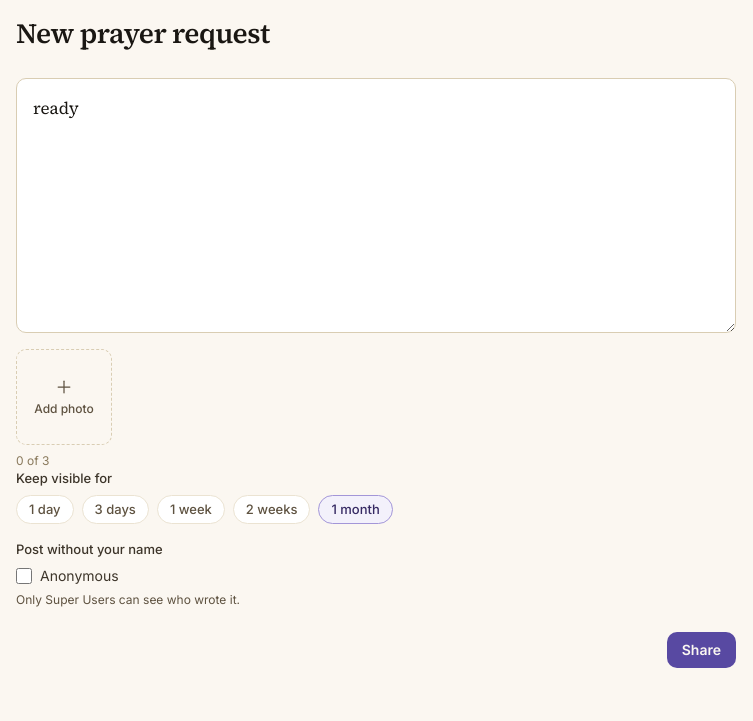
ComposePage › surfaces publish errors inline and stays on the page
The width and height of the screenshot is (753, 721).
Expected: the text box named "body" holds "ready", [16, 78, 736, 333]
Click the button "Share".
click(701, 650)  # box [667, 632, 736, 668]
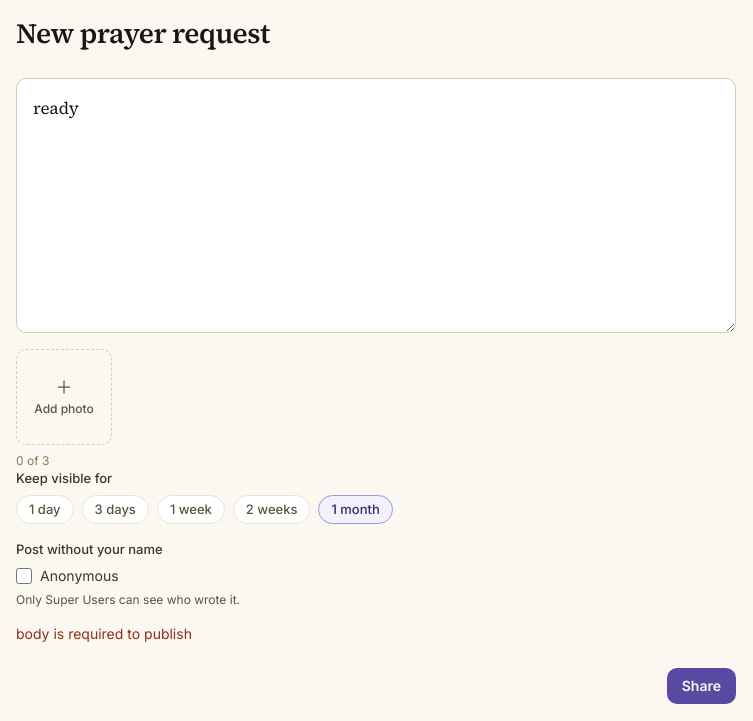
Expected: the text "body is required to publish" is shown, [16, 624, 192, 642]
